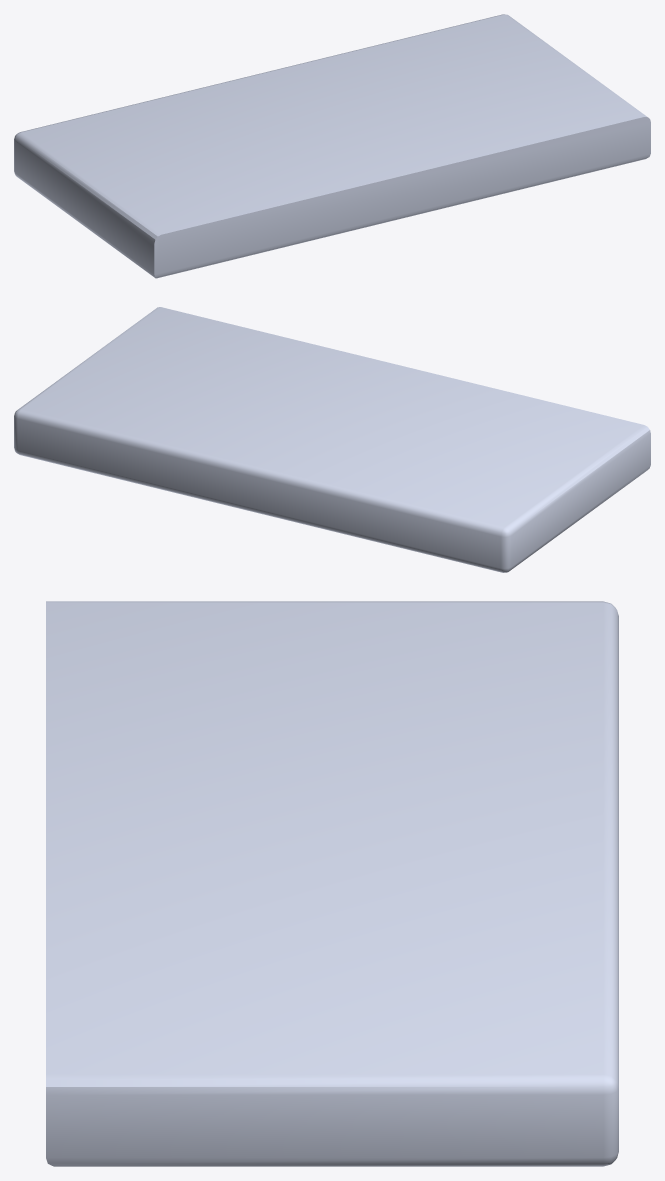
File: Shelf.fbx
3 views of the same model, one above another, from view 1: azimuth 30°, elevation 25°; view 2: azimuth 150°, elevation 25°; view 3: azimuth 270°, elevation 25° (orthographic). The views are drawn at different scales.
Parts seen in each view (by area): view 1: Shelf; view 2: Shelf; view 3: Shelf.
Boxes of the visible parts, x1,y1,x2,y2 form: Shelf: (14,14,650,278); Shelf: (14,307,650,572); Shelf: (46,601,618,1166).
Size of the model in its own units: 124 by 10.79 by 61.78.
Materials: 1 (1 with a texture image).
